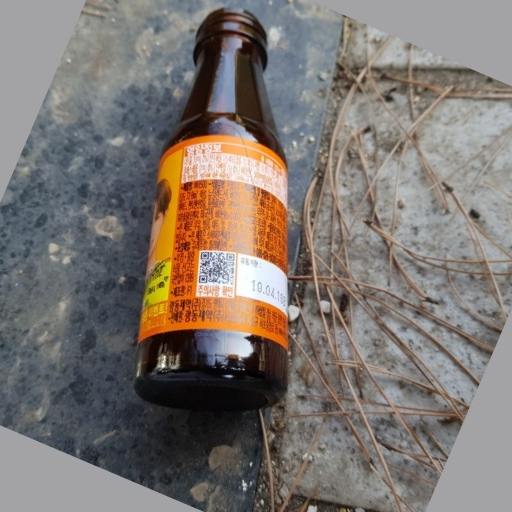Glass_3: (129, 7, 294, 411)
